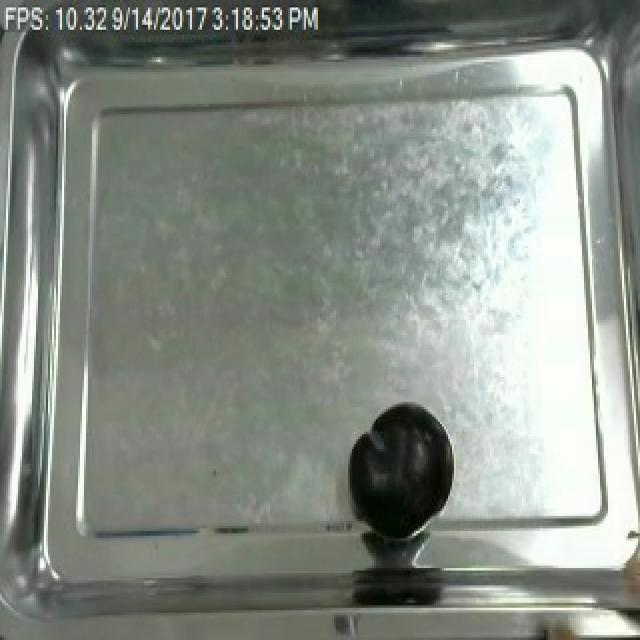Fruit: (346, 397, 454, 541)
